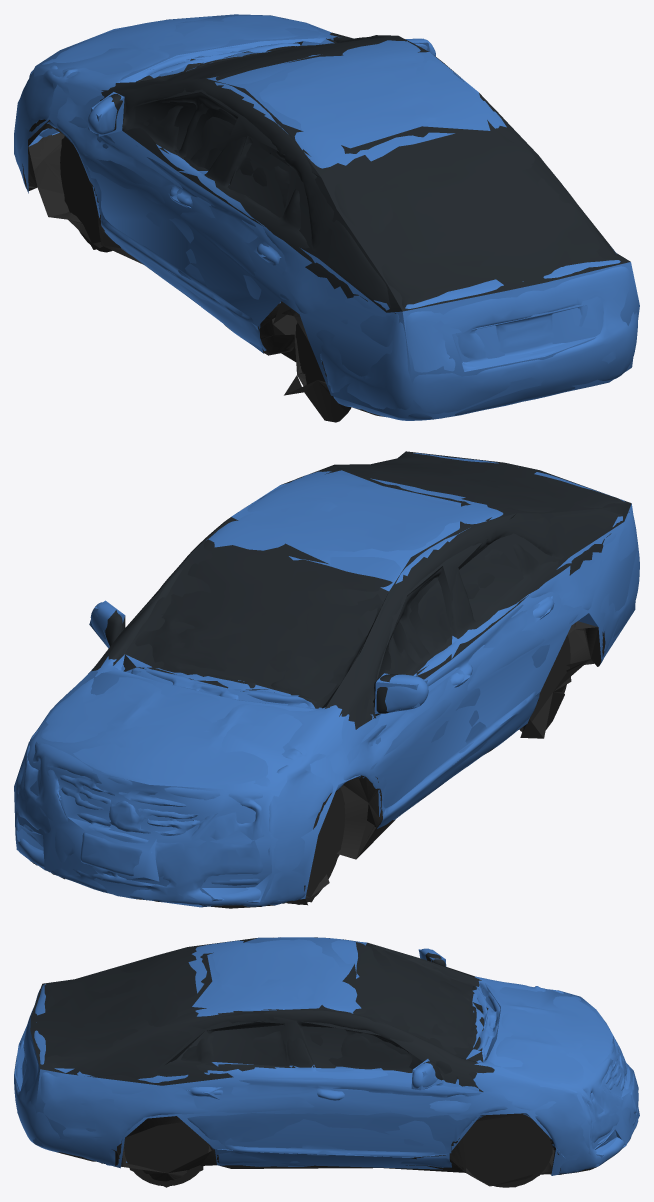
Rendered from cadillac-xts.glb.
3 views of the same model, one above another, from view 1: azimuth 30°, elevation 25°; view 2: azimuth 150°, elevation 25°; view 3: azimuth 270°, elevation 25° (orthographic). The views are drawn at different scales.
Parts seen in each view (by area): view 1: body, far; view 2: body, far; view 3: body, far.
Boxes of the visible parts, x1,y1,x2,y2 form: body: (15,15,637,422); far: (14,14,639,421); body: (15,453,639,908); far: (14,451,637,907); body: (14,937,638,1187); far: (14,937,639,1187).
Bounding box in the file's own units: 2.4 × 1.67 × 5.15.
